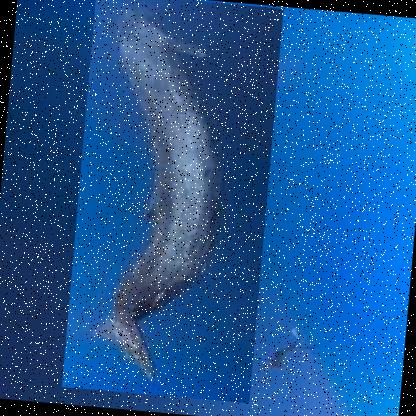blue_whale: (61, 0, 285, 403)
